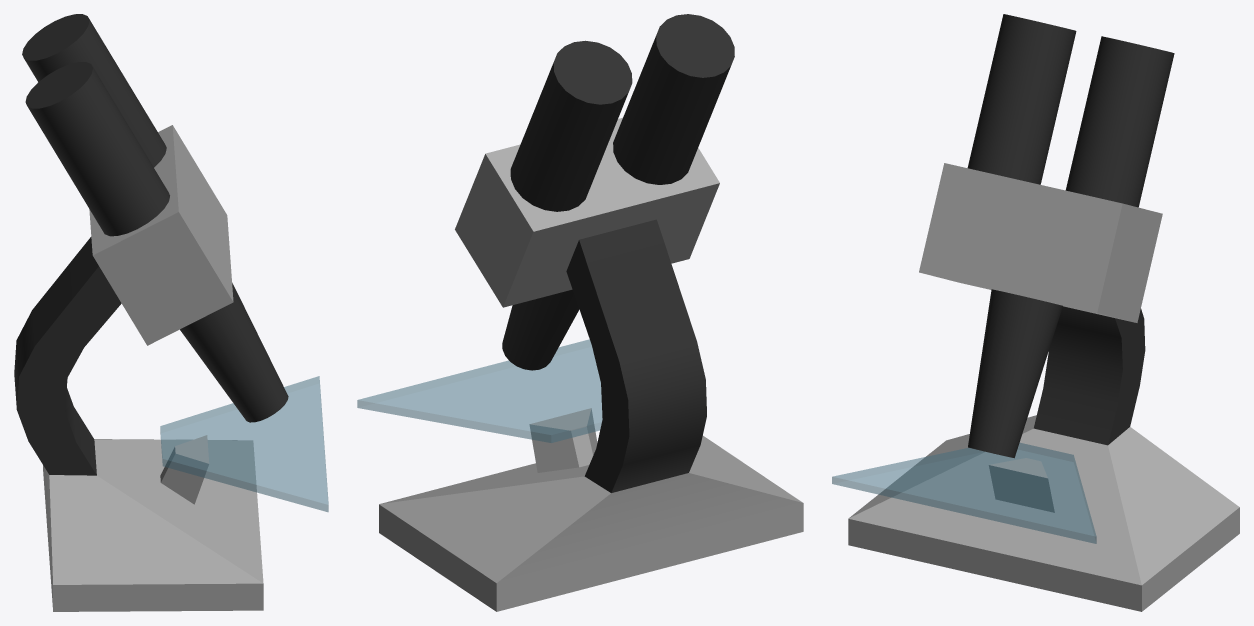
File: Microscope.fbx
The picture shows the model from 3 angles, left to right: view 1: azimuth 30°, elevation 25°; view 2: azimuth 150°, elevation 25°; view 3: azimuth 270°, elevation 25°; orthographic projection. The views are drawn at different scales.
Parts seen in each view (by area): view 1: Microscope; view 2: Microscope; view 3: Microscope.
Part boxes in pixels (box(x1,y1,x2,y2)): Microscope: box(14, 14, 328, 611); Microscope: box(357, 14, 803, 611); Microscope: box(832, 14, 1239, 611).
Size of the model in its own units: 90.94 by 126 by 95.27.
